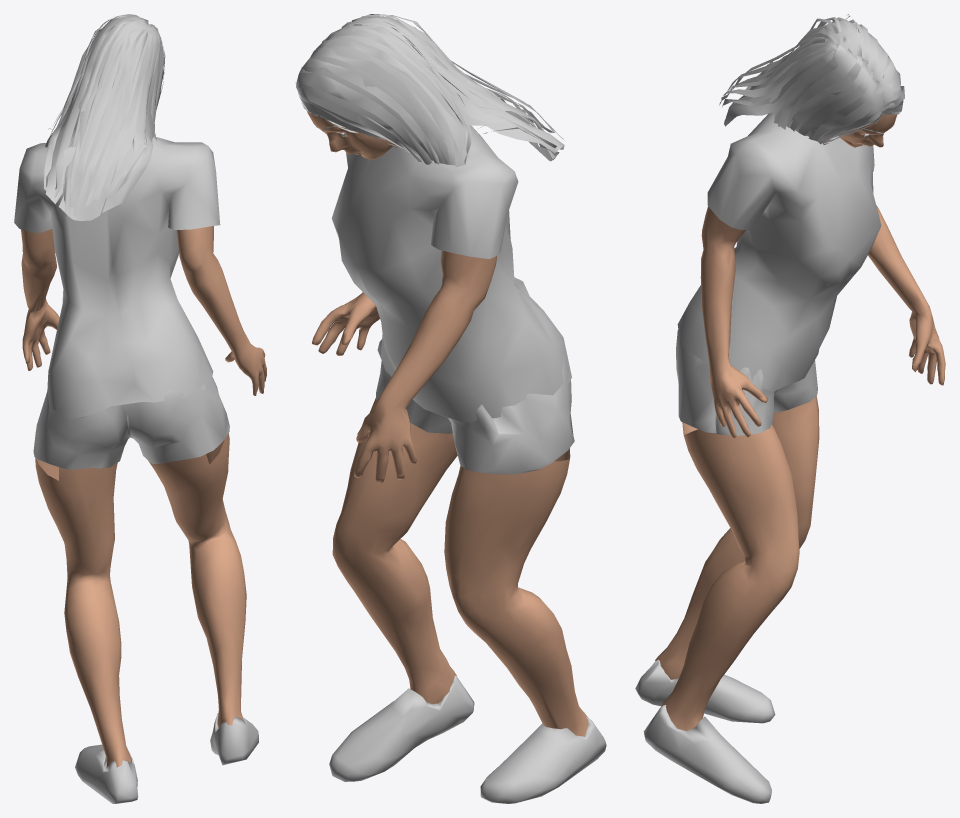
Rendered from player2att_000012.obj.
The picture shows the model from 3 angles, left to right: view 1: azimuth 30°, elevation 25°; view 2: azimuth 150°, elevation 25°; view 3: azimuth 270°, elevation 25°; orthographic projection. The views are drawn at different scales.
Visible parts, largest first — view 1: player2:Body, player2:tshirt02, player2:fhair01, player2:short01, player2:shoes02; view 2: player2:Body, player2:tshirt02, player2:fhair01, player2:shoes02, player2:short01; view 3: player2:Body, player2:tshirt02, player2:fhair01, player2:shoes02, player2:short01.
Part boxes in pixels (x1=…): player2:Body: x1=21, y1=226, x2=266, y2=767; player2:tshirt02: x1=14, y1=136, x2=220, y2=419; player2:fhair01: x1=43, y1=14, x2=165, y2=220; player2:short01: x1=33, y1=377, x2=229, y2=469; player2:shoes02: x1=75, y1=713, x2=258, y2=803; player2:Body: x1=307, y1=111, x2=588, y2=736; player2:tshirt02: x1=331, y1=125, x2=571, y2=422; player2:fhair01: x1=295, y1=14, x2=564, y2=167; player2:shoes02: x1=329, y1=675, x2=606, y2=803; player2:short01: x1=376, y1=339, x2=574, y2=474; player2:Body: x1=655, y1=114, x2=945, y2=730; player2:tshirt02: x1=677, y1=112, x2=881, y2=391; player2:fhair01: x1=719, y1=14, x2=904, y2=144; player2:shoes02: x1=635, y1=659, x2=775, y2=803; player2:short01: x1=676, y1=324, x2=817, y2=435.
Bounding box in the file's own units: 5.25 × 16.02 × 6.04.
